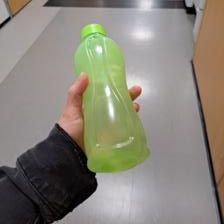bottle: (69, 21, 151, 174)
